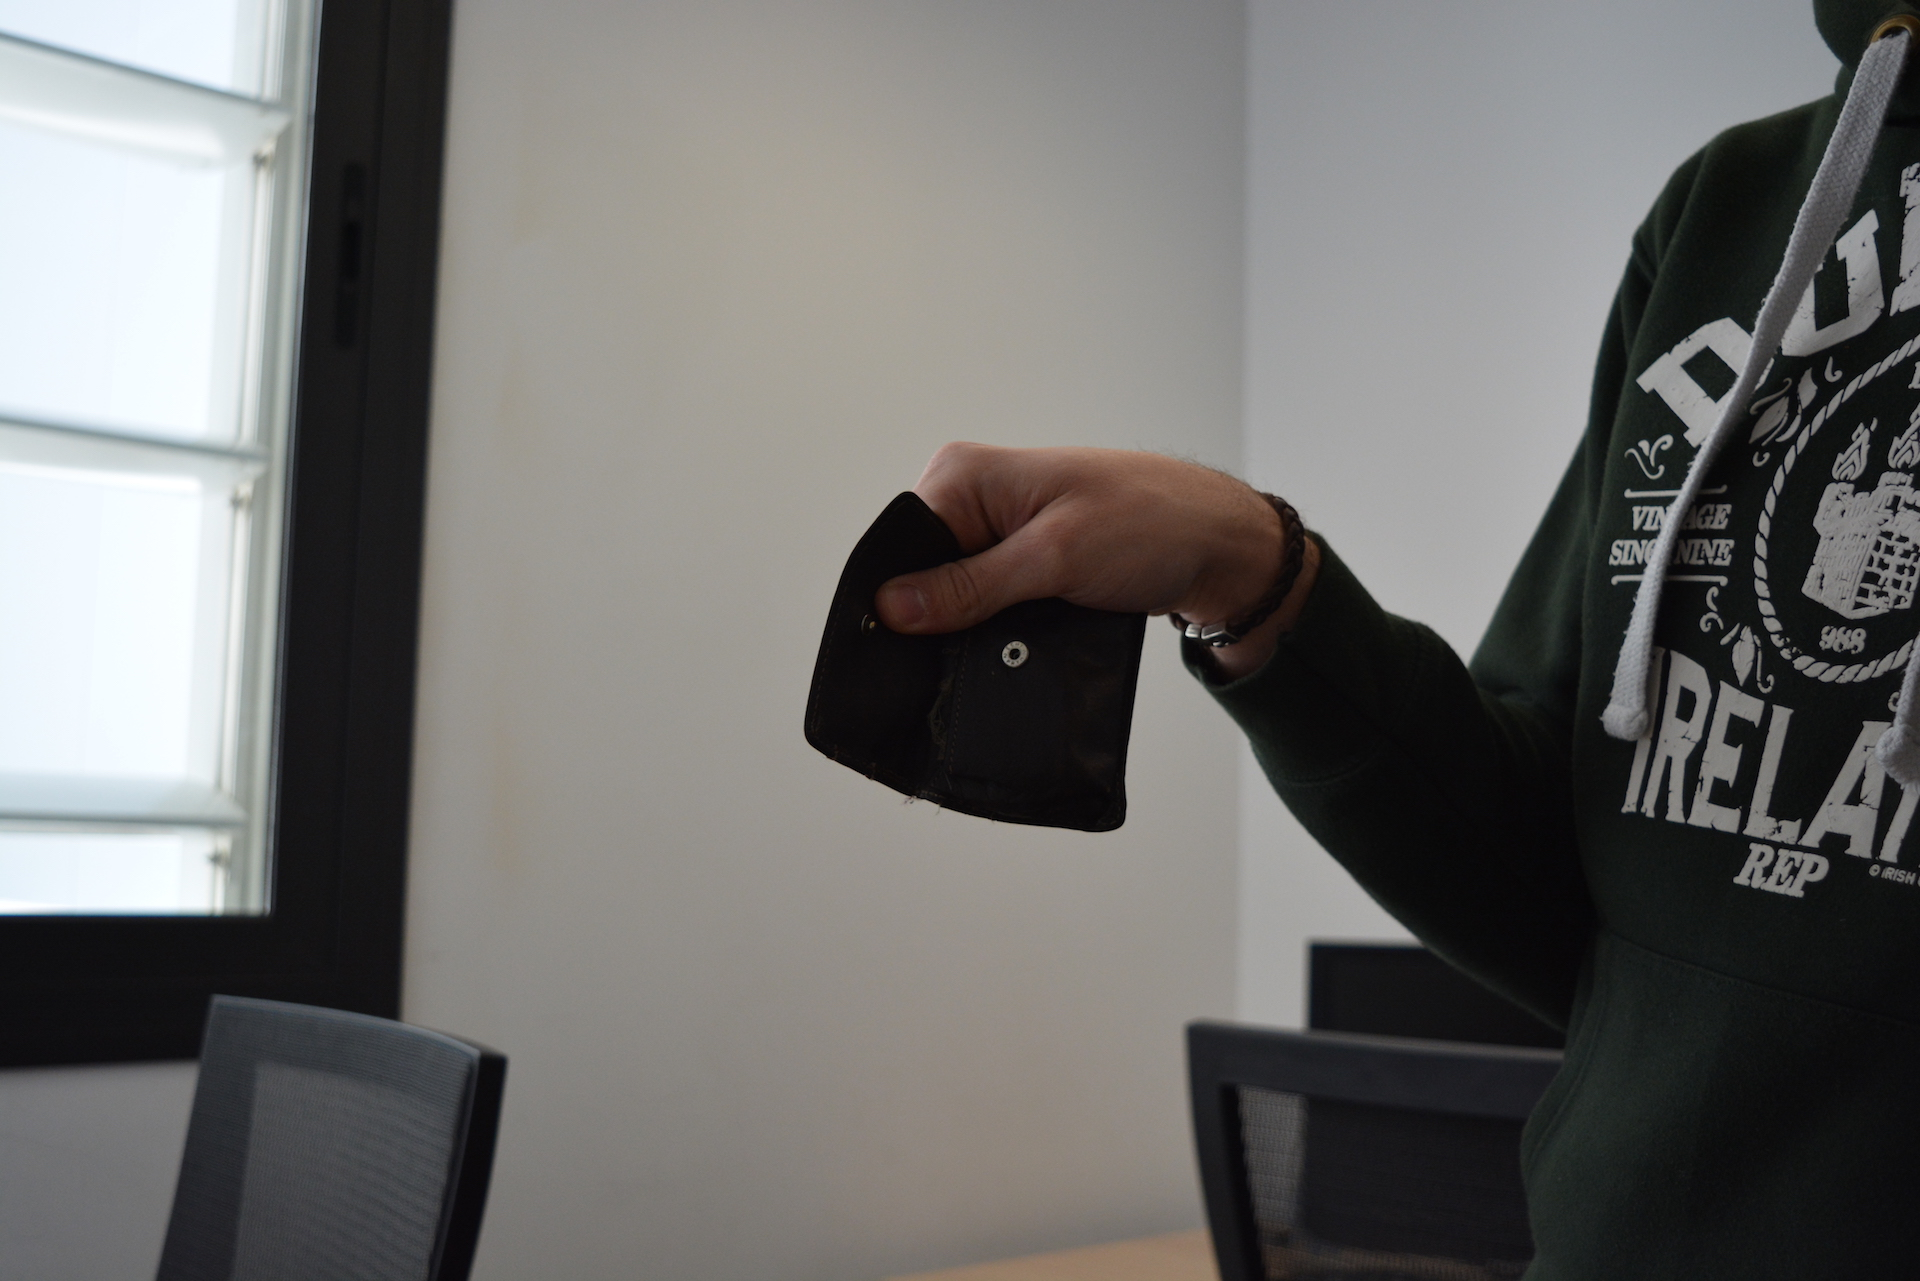monedero: (801, 488, 1152, 836)
